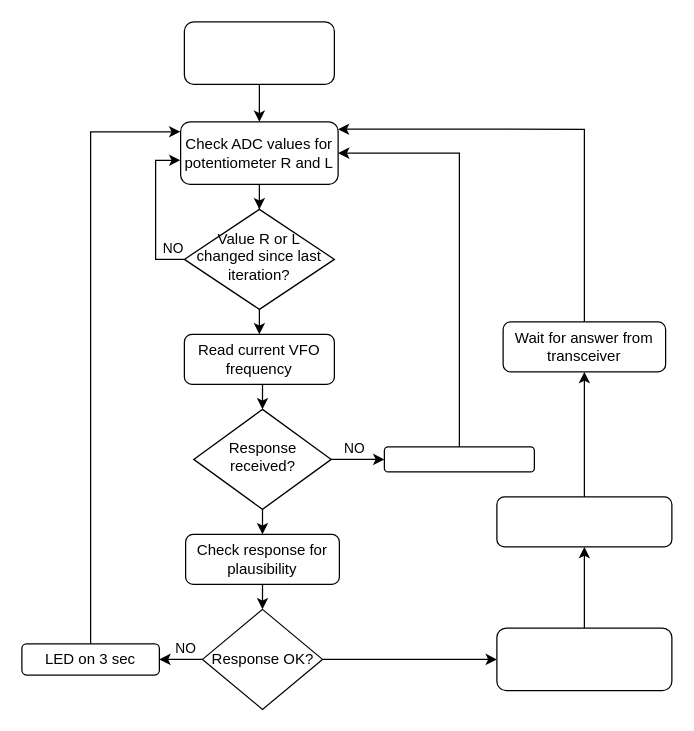
Some shapes in this 694 by 731 pixel diagram are drawn without their labels. The shapes that lost their labels are listed below. From the top down, each one's centre as x and y in pixels, then its label:
pixel 258 52: Initialize ATmega328P uC
pixel 458 459: LED on 1 sec
pixel 584 521: Send command to transceiver
pixel 584 659: Construct "SetActiveVFOFrequency" message
